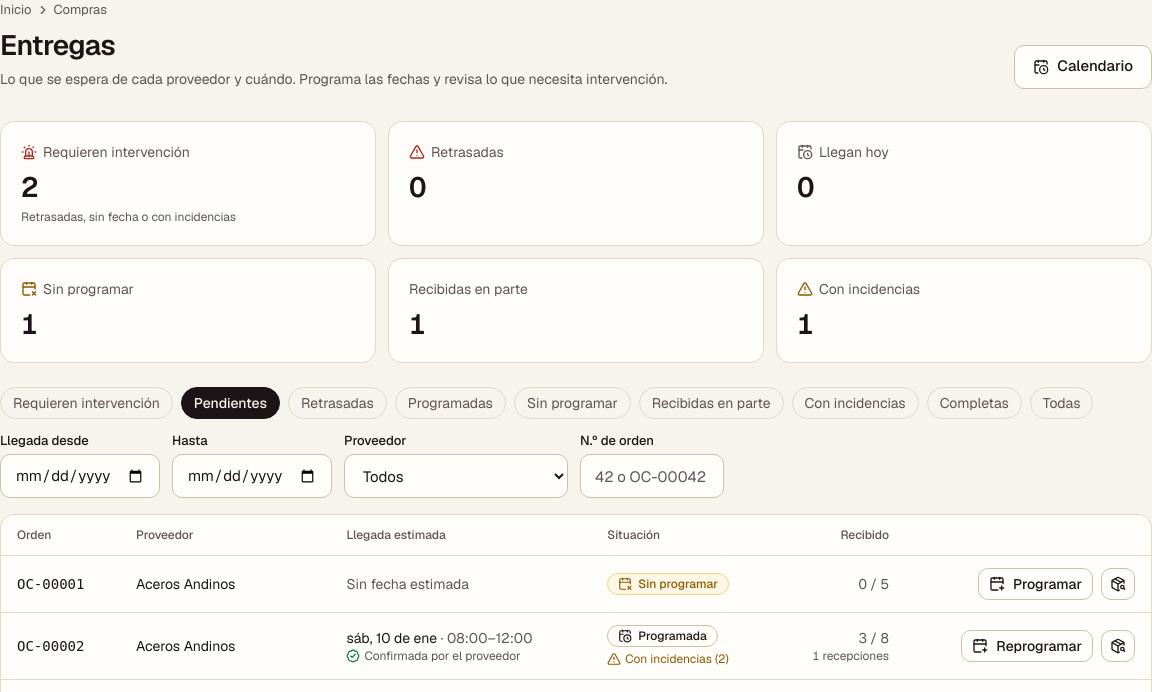
it: Entregas (supervisión del gerente) › programa una entrega y exige motivo al reprogramar
The image size is (1152, 692).
Click the button named "Reprogramar OC-00002": (1027, 646) x1=961 y1=630 x2=1093 y2=662
(page scrolled)
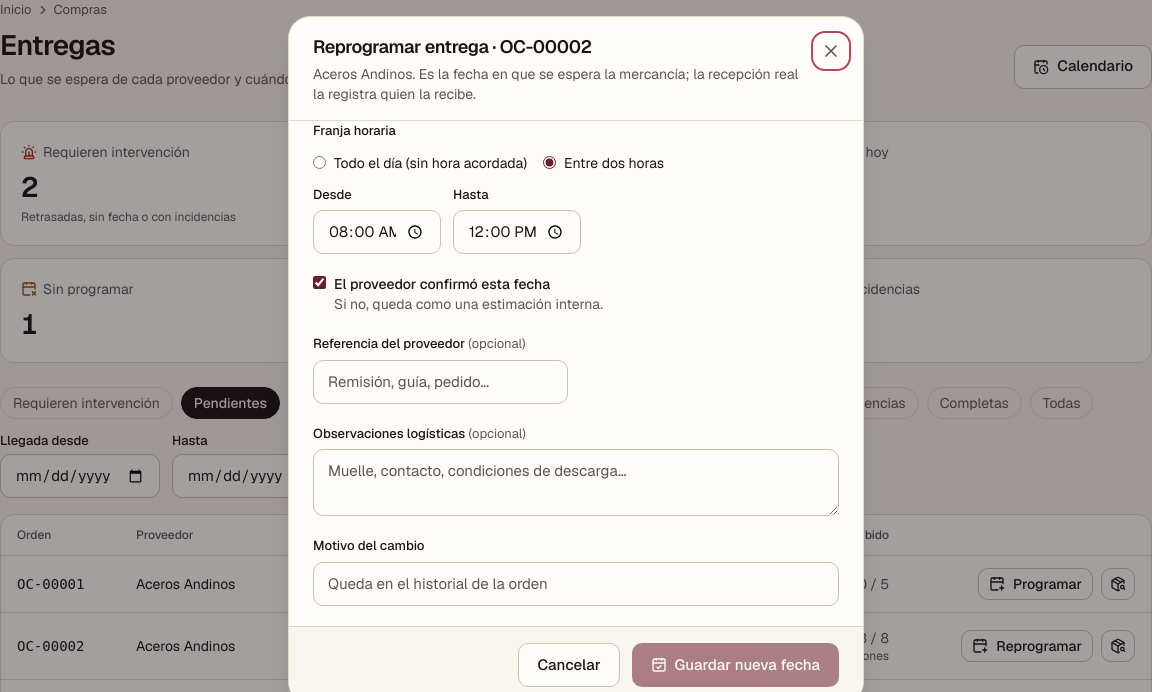
Result: the button "Guardar nueva fecha" is disabled at x1=632 y1=643 x2=839 y2=687
In the field labelled "Motivo del cambio": (576, 584) x1=313 y1=562 x2=839 y2=606, type "El transportador se retrasa"
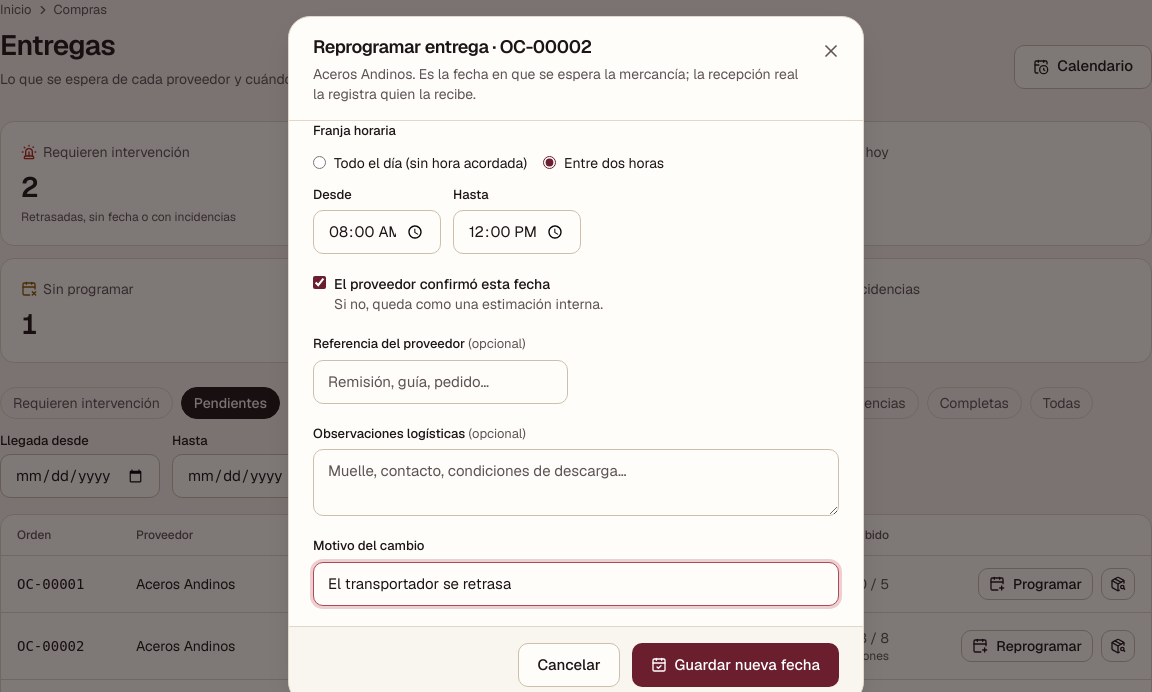
Click the radio button labelled "Todo el día (sin hora acordada)": (320, 163) x1=313 y1=156 x2=326 y2=169
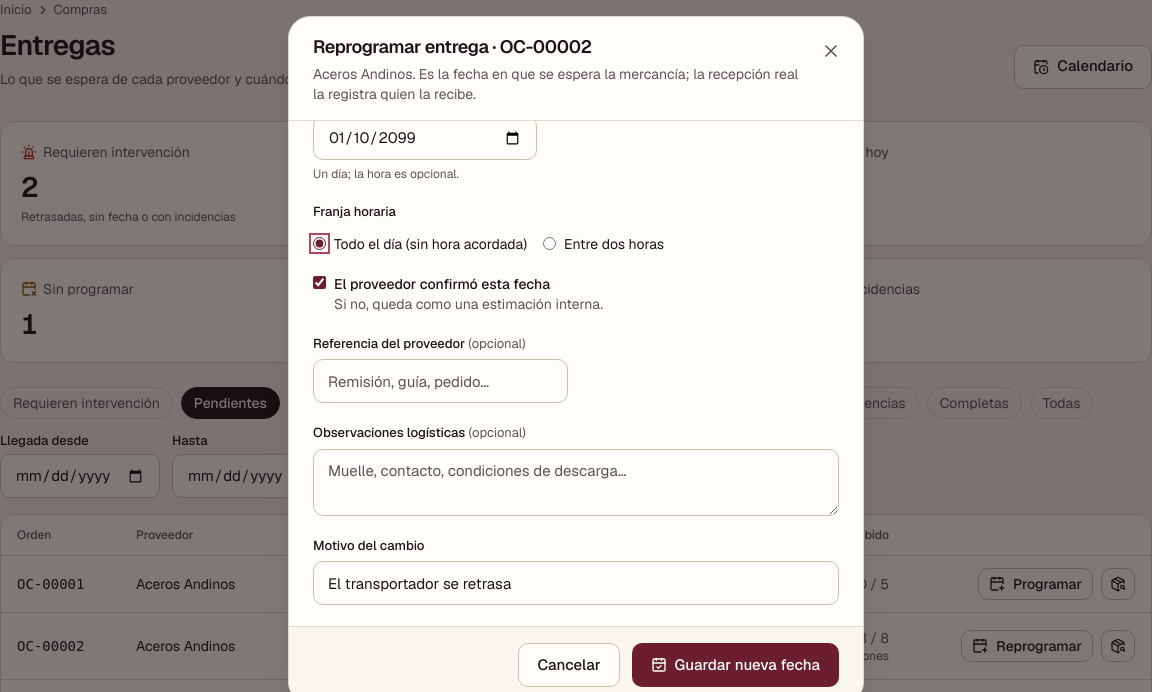
Click the button "Guardar nueva fecha": (735, 665) x1=632 y1=643 x2=839 y2=687
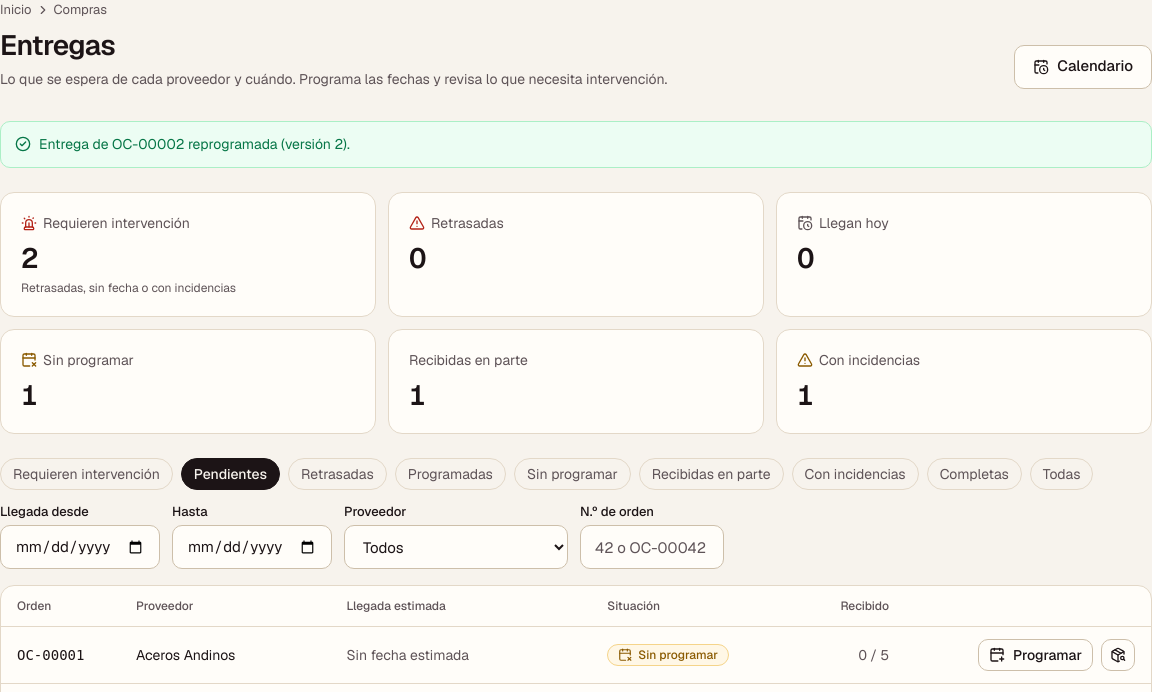
Result: the text "Entrega de OC-00002 reprogramada (versión 2)." is shown at x1=0 y1=120 x2=1151 y2=168
